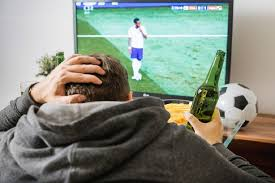beer: (189, 50, 225, 134)
